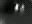person: (15, 4, 20, 15), (21, 5, 26, 15)
